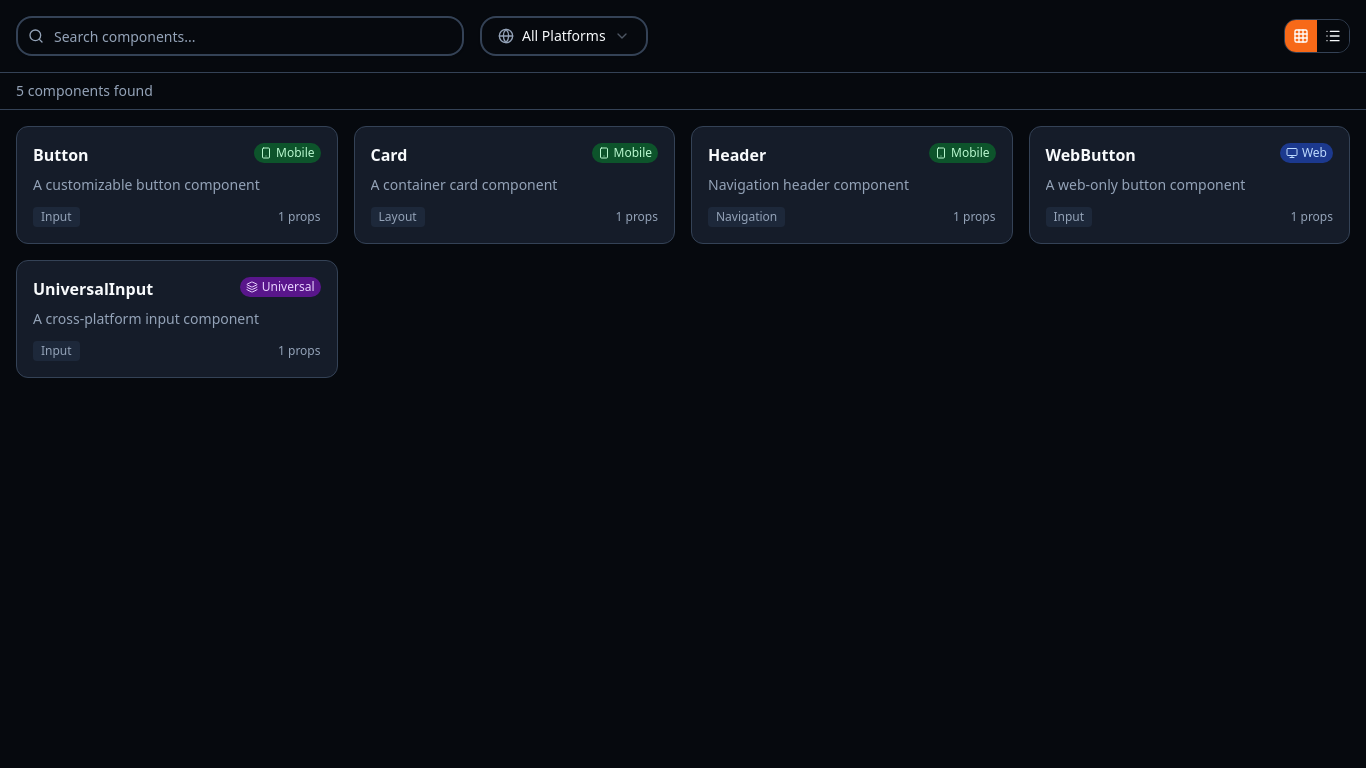
Test: ComponentGallery › closes detail panel when X is clicked
The image size is (1366, 768).
Note: Open detail panel
Click the button "Button" at (177, 185), box x1=16 y1=126 x2=338 y2=244
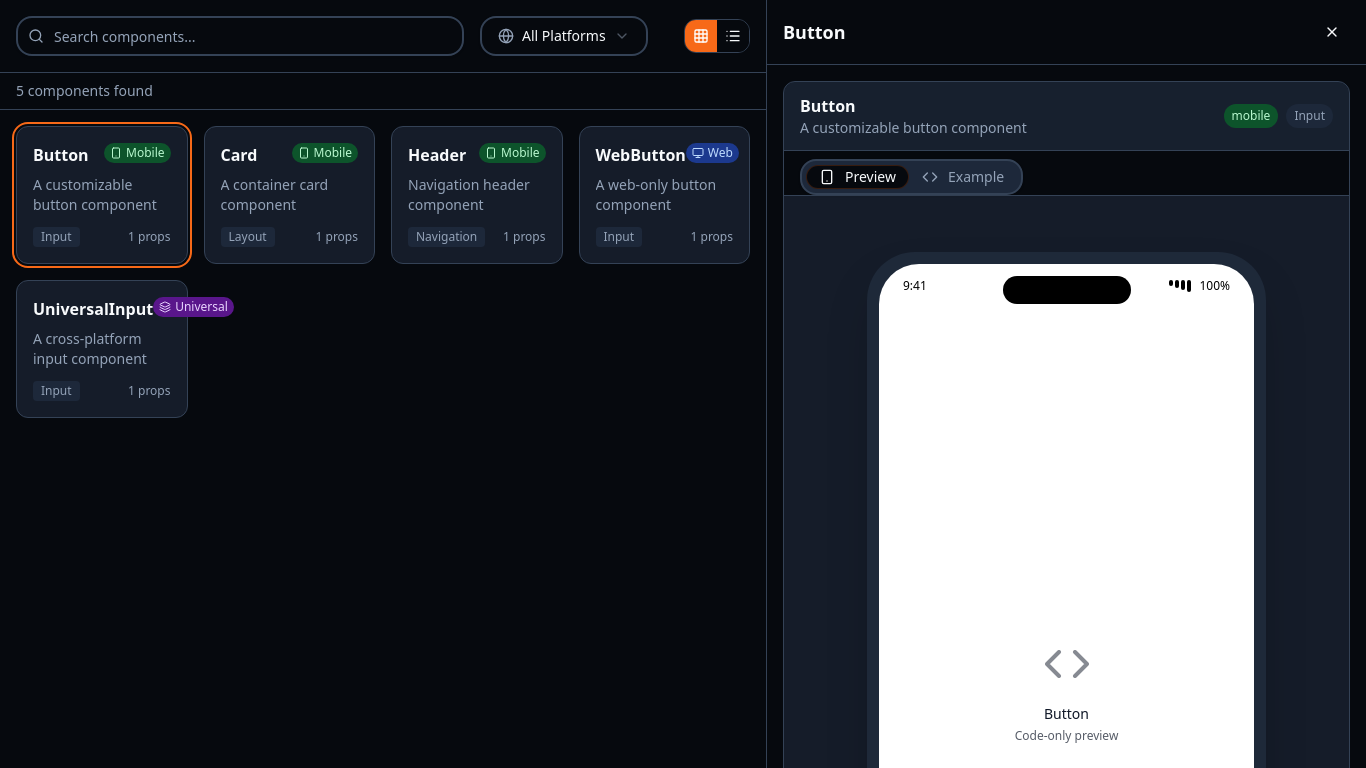
Note: Find close button in detail panel (it's the X icon)
Click the 3rd button at (1332, 32), box x1=1314 y1=16 x2=1350 y2=48
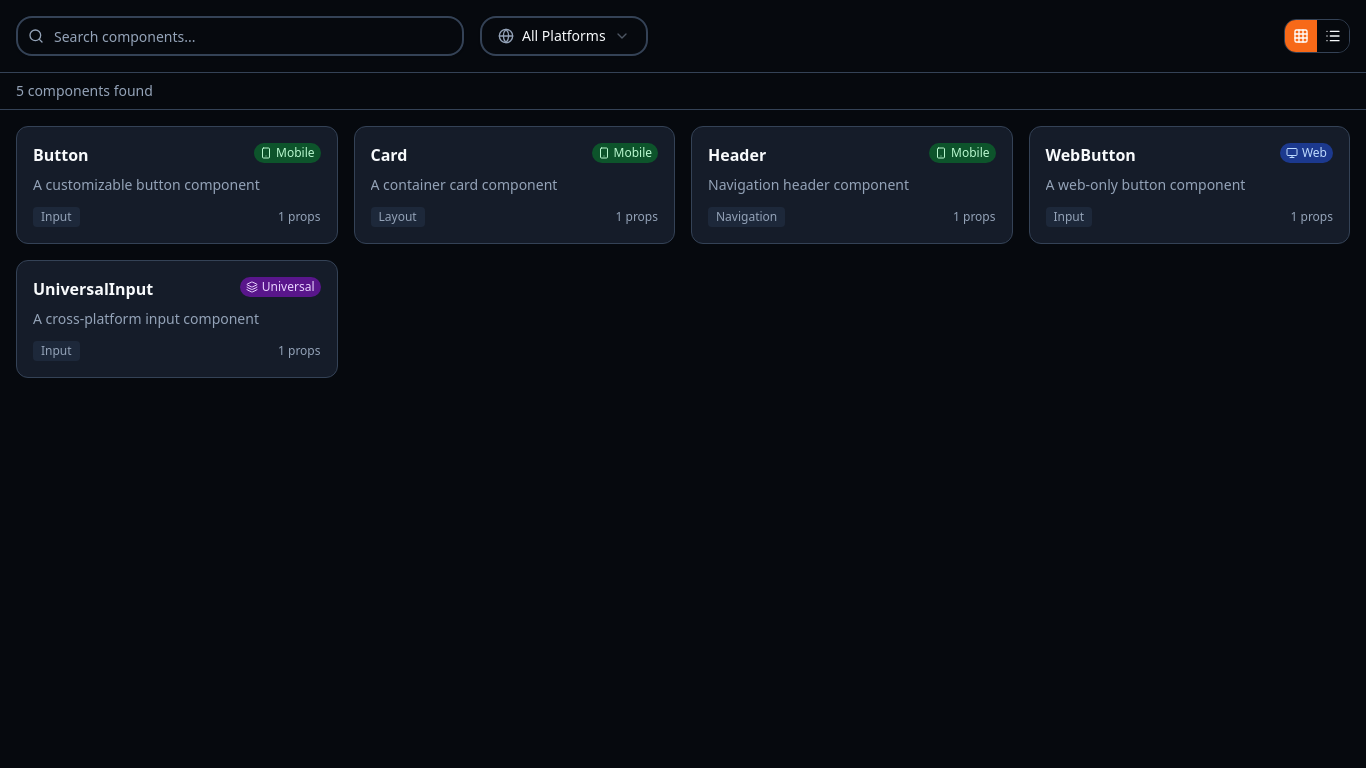
expect the number of headings "Button" is 1: met, box x1=33 y1=143 x2=89 y2=167
